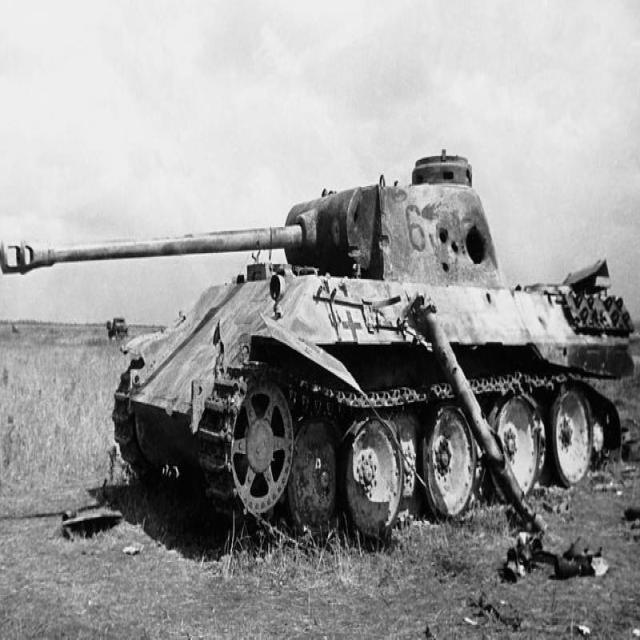MIL_MBT: (76, 140, 624, 522)
